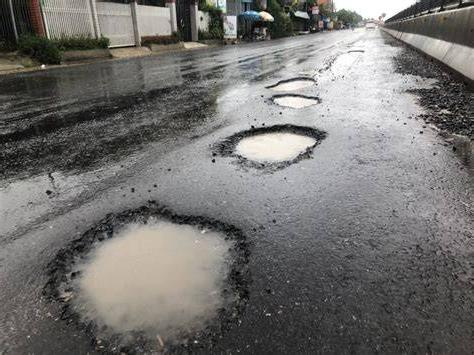POTHOLE: (38, 196, 258, 355), (215, 122, 327, 169), (268, 90, 320, 109)
